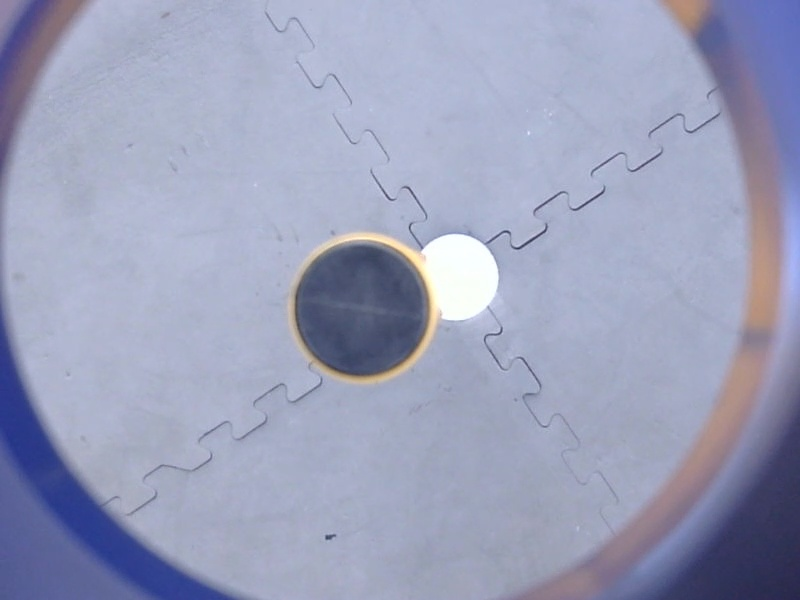tip: (277, 227, 443, 391)
